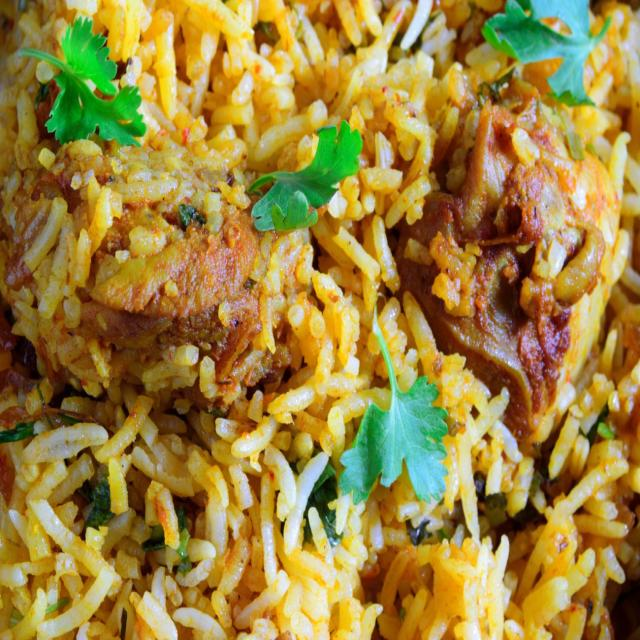chicken biryani: (10, 3, 635, 632)
